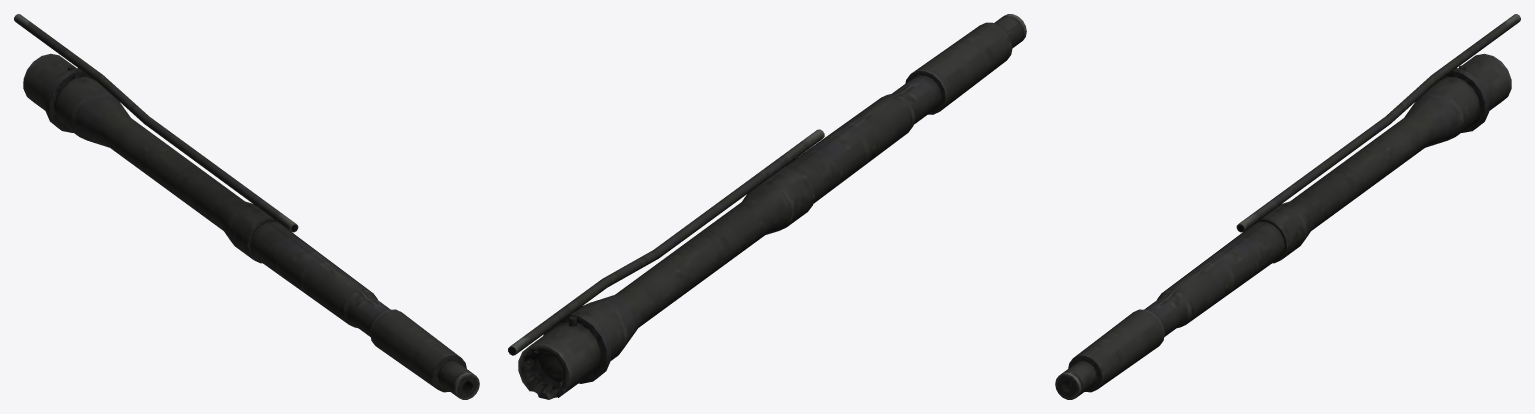
The picture shows the model from 3 angles, left to right: view 1: azimuth 30°, elevation 25°; view 2: azimuth 150°, elevation 25°; view 3: azimuth 330°, elevation 25°; orthographic projection. The views are drawn at different scales.
Parts seen in each view (by area): view 1: barrel_ar15_370mm_LOD0; view 2: barrel_ar15_370mm_LOD0; view 3: barrel_ar15_370mm_LOD0.
Part boxes in pixels (left/top/right/bottom): barrel_ar15_370mm_LOD0: left=14, top=14, right=479, bottom=399; barrel_ar15_370mm_LOD0: left=508, top=14, right=1026, bottom=399; barrel_ar15_370mm_LOD0: left=1055, top=14, right=1520, bottom=399.
Bounding box in the file's own units: 0.0295 × 0.0368 × 0.405.
1 material, 1 textured.
